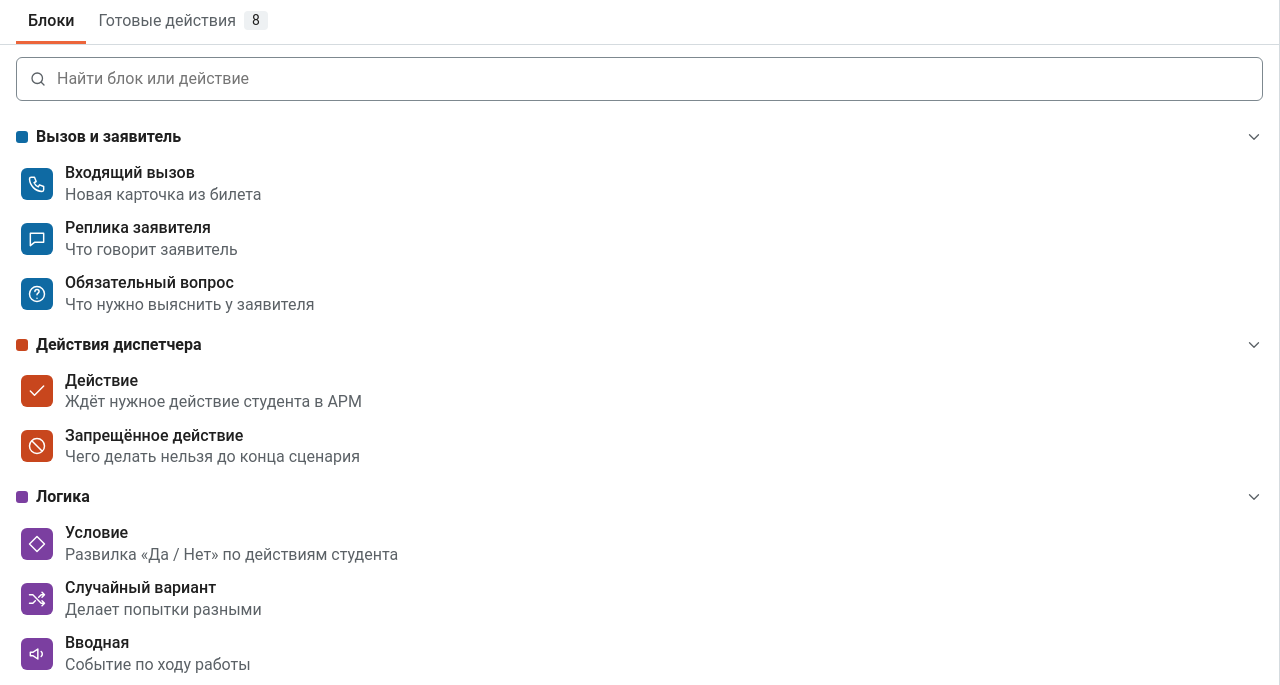
Test: FlowLibrary › готовые действия зависят от режима; пустой поиск даёт подсказку
The image size is (1280, 685).
Click the button "Готовые действия 8" at [183, 22], box [86,0,280,44]
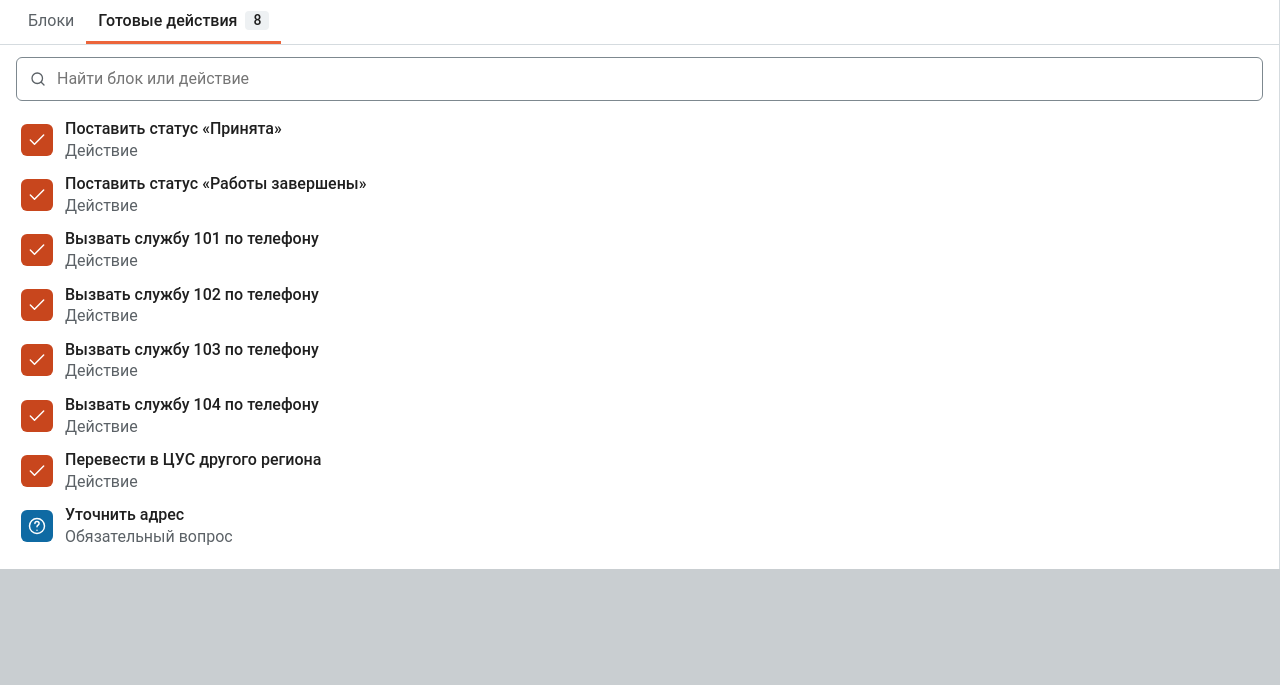
Check: the button "Поставить статус «Принята» Действие" is shown, box [12,113,1267,166]
Type "абвгд" into the search field with placeholder "Найти блок или действие" at [652, 79], box [55,58,1250,100]
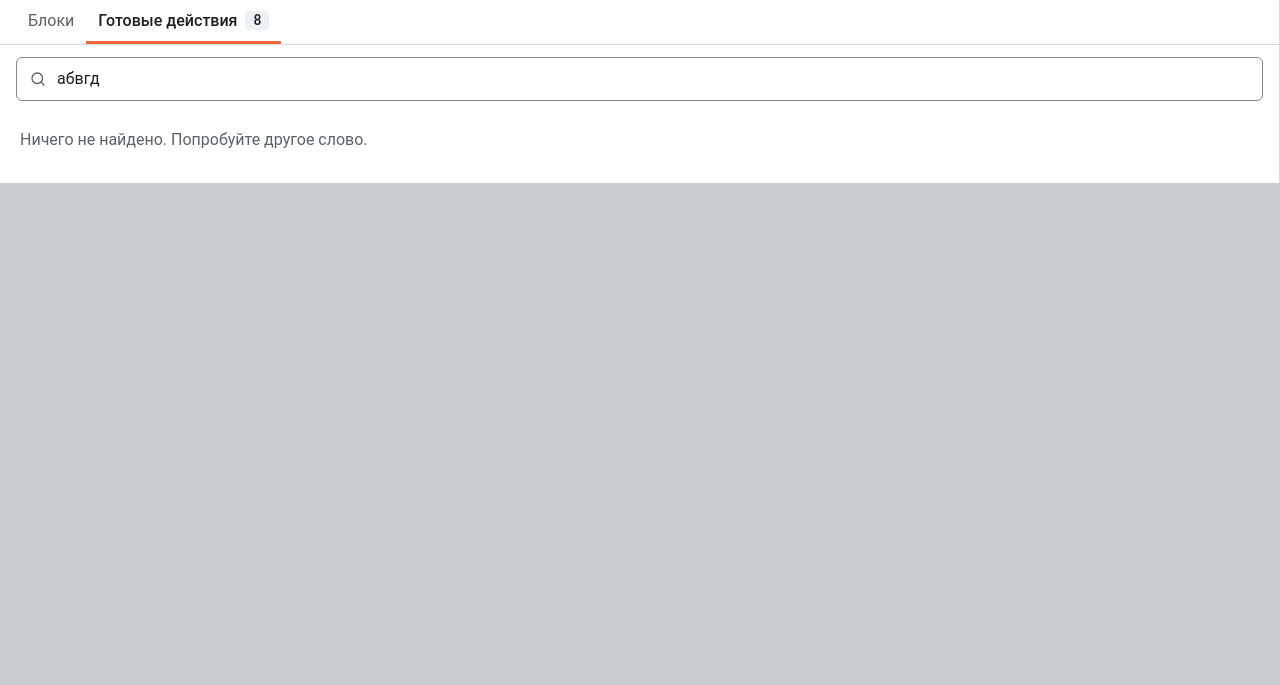
Check: the message shows "Ничего не найдено", box [20,130,368,149]
